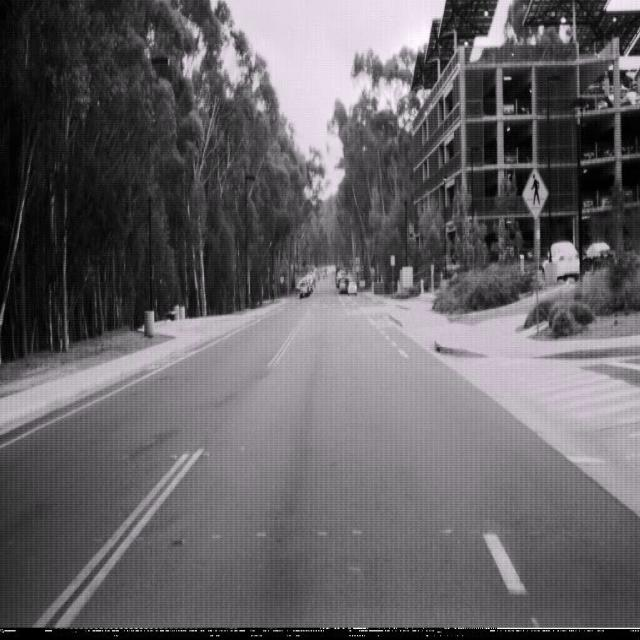pedestrianCrossing: (521, 166, 549, 220)
